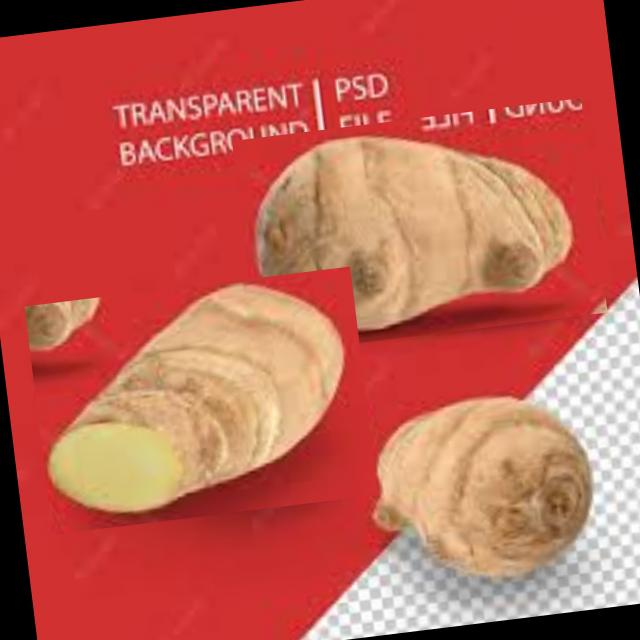Damaged potato: (232, 98, 608, 354), (24, 266, 378, 534), (325, 391, 607, 590)
